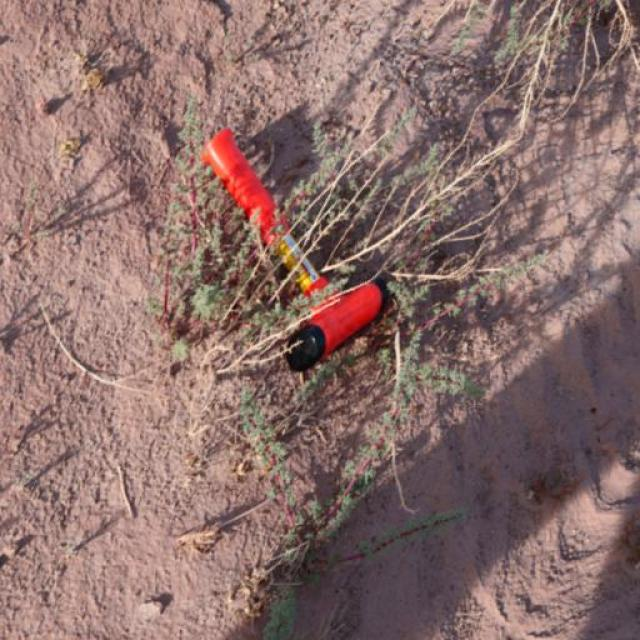mallet: (200, 125, 385, 377)
